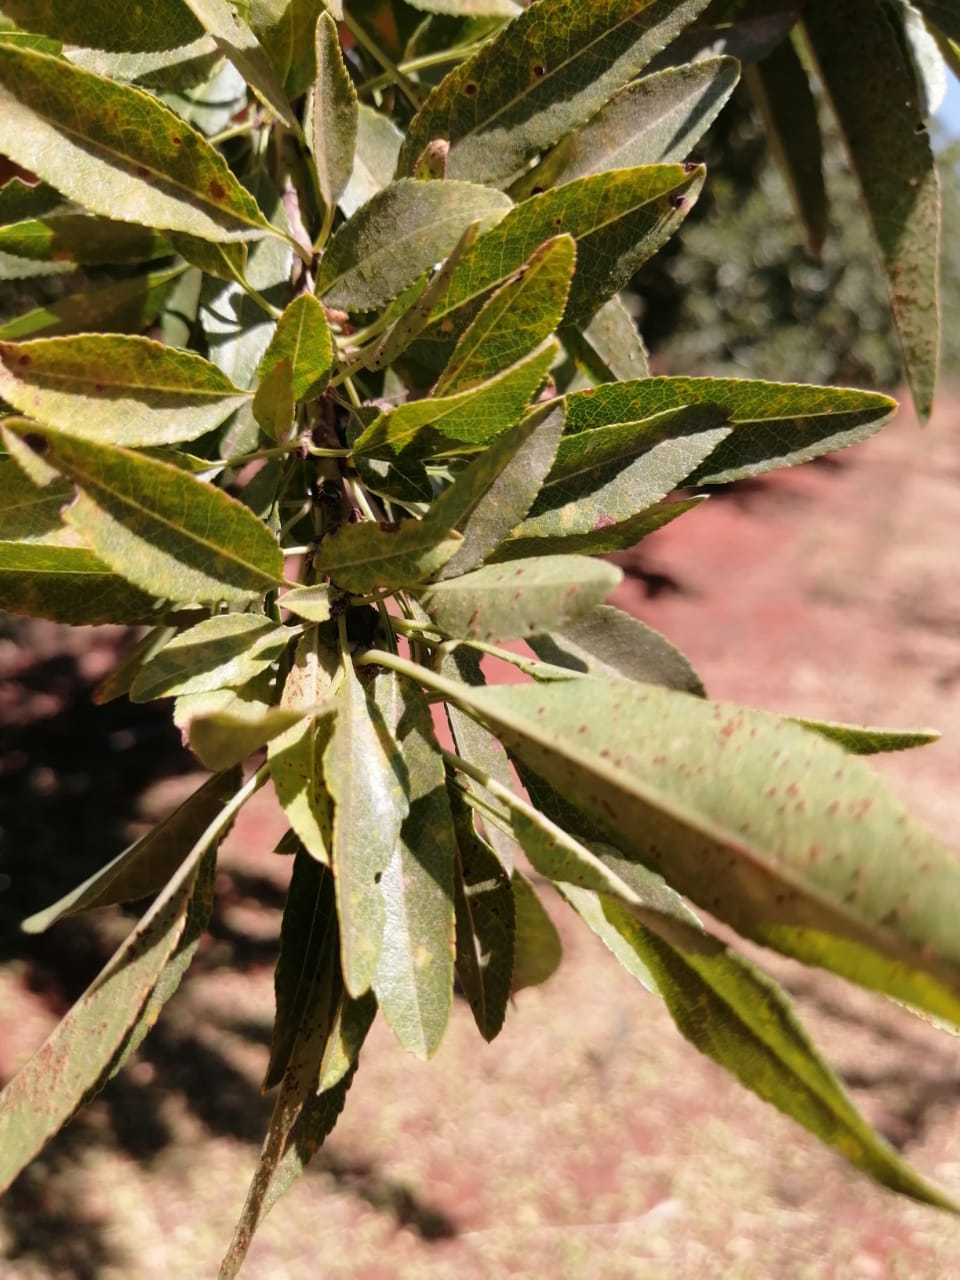rouille: (463, 676, 960, 1019), (1, 767, 271, 1187), (380, 163, 706, 371), (792, 3, 944, 433), (1, 40, 287, 246), (392, 1, 707, 176), (1, 418, 284, 606), (1, 327, 252, 452), (315, 177, 518, 314), (505, 421, 733, 540), (422, 552, 624, 644)
